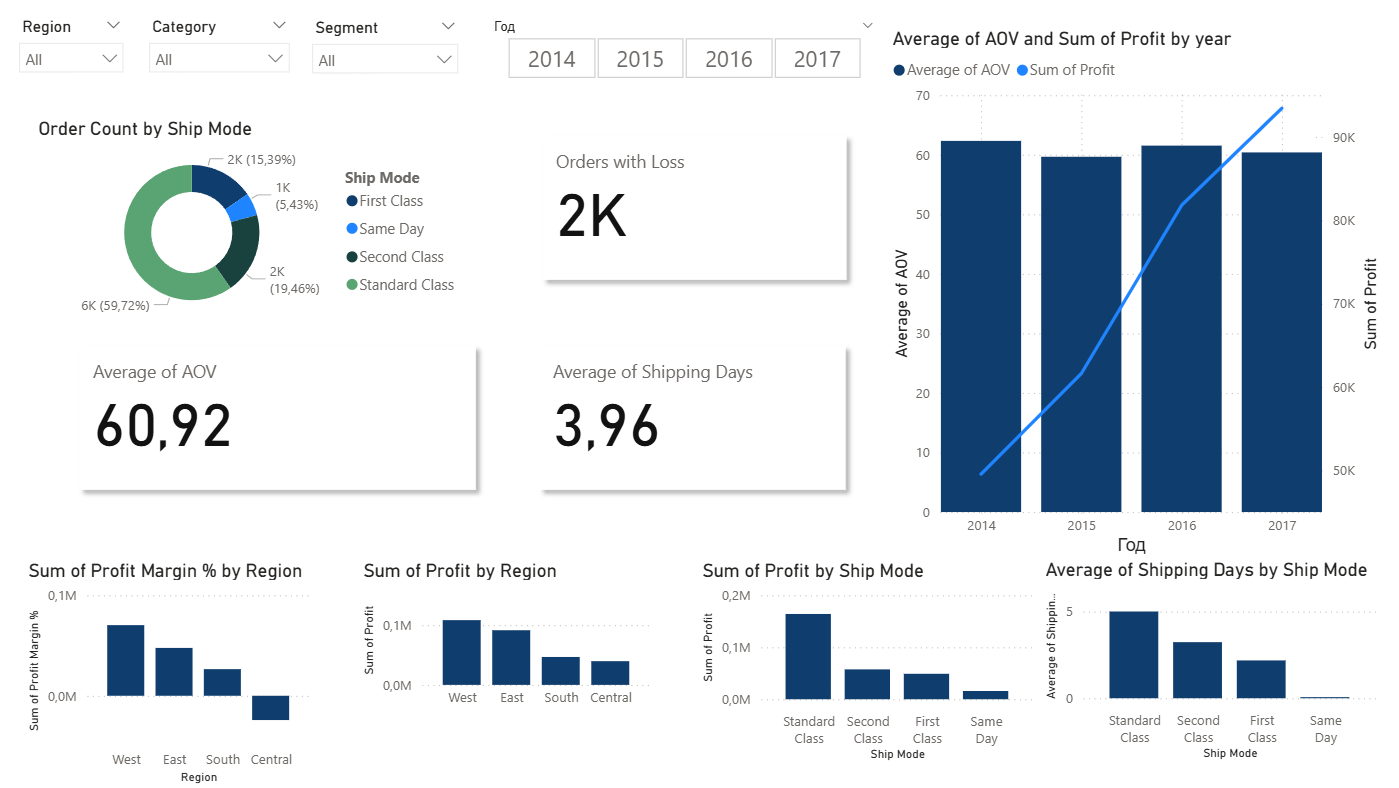

This screenshot's page, from the dashboard's own definition file:
{"tool":"powerbi","page":{"name":"Operational Metrics","canvas":[1280,720],"ordinal":1},"visuals":[{"type":"cardVisual","fields":{"Data":["fact_orders.Orders with Loss"]},"box":[480,108.9,310,165.6],"z":0},{"type":"slicer","fields":{"Values":["fact_orders.Region"]},"box":[11.2,13.8,115,62.5],"z":1000},{"type":"slicer","fields":{"Values":["fact_orders.Category"]},"box":[128.8,13.8,147.5,62.5],"z":2000},{"type":"slicer","fields":{"Values":["fact_orders.Segment"]},"box":[277.1,14.3,152.9,62.9],"z":3000},{"type":"slicer","fields":{"Values":["fact_orders.Order Date.Изменение.Иерархия дат.Год"]},"box":[440,14.3,370,61.4],"z":4000},{"type":"lineStackedColumnComboChart","title":"Average of AOV and Sum of Profit by year","fields":{"Category":["fact_orders.Order Date.Изменение.Иерархия дат.Год"],"Y":["Avg(fact_orders.AOV)"],"Y2":["Sum(fact_orders.Profit)"]},"box":[810,27.1,451.4,484.3],"z":5000},{"type":"cardVisual","fields":{"Data":["Avg(fact_orders.AOV)"]},"box":[58.9,300,394.4,165.6],"z":6000},{"type":"actionButton","box":[0,0,100,40],"z":7000},{"type":"columnChart","fields":{"Category":["fact_orders.Ship Mode"],"Y":["Sum(fact_orders.Profit)"]},"box":[637.3,510.7,311.2,187.5],"z":8000},{"type":"columnChart","fields":{"Y":["Sum(fact_orders.Profit)"],"Category":["fact_orders.Region"]},"box":[329.3,510.6,271.1,144.4],"z":9000},{"type":"columnChart","fields":{"Category":["fact_orders.Region"],"Y":["Sum(fact_orders.Profit Margin %)"]},"box":[24.8,510.5,266,209],"z":10000},{"type":"cardVisual","fields":{"Data":["Avg(fact_orders.Shipping Days)"]},"box":[477.1,300,312.9,165.7],"z":11000},{"type":"donutChart","fields":{"Y":["fact_orders.Order Count"],"Series":["fact_orders.Ship Mode"]},"box":[33.3,108.9,396.7,191.1],"z":12000},{"type":"columnChart","fields":{"Category":["fact_orders.Ship Mode"],"Y":["Avg(fact_orders.Shipping Days)"]},"box":[948.8,510,311.2,187.5],"z":12001}]}

Visuals, with their boxes in screenshot pixels (x1, y1, x2, y2), scaled from the page's 1280x720 canvas onto the 1399x788 screenshot:
cardVisual - fact_orders.Orders with Loss: 525/119/863/300
slicer - fact_orders.Region: 12/15/138/84
slicer - fact_orders.Category: 141/15/302/84
slicer - fact_orders.Segment: 303/16/470/84
slicer - fact_orders.Order Date.Изменение.Иерархия дат.Год: 481/16/885/83
"Average of AOV and Sum of Profit by year" lineStackedColumnComboChart: 885/30/1379/560
cardVisual - Avg(fact_orders.AOV): 64/328/495/510
actionButton: 0/0/109/44
columnChart - fact_orders.Ship Mode x Sum(fact_orders.Profit): 697/559/1037/764
columnChart - Sum(fact_orders.Profit) x fact_orders.Region: 360/559/656/717
columnChart - fact_orders.Region x Sum(fact_orders.Profit Margin %): 27/559/318/787
cardVisual - Avg(fact_orders.Shipping Days): 521/328/863/510
donutChart - fact_orders.Order Count x fact_orders.Ship Mode: 36/119/470/328
columnChart - fact_orders.Ship Mode x Avg(fact_orders.Shipping Days): 1037/558/1377/763
